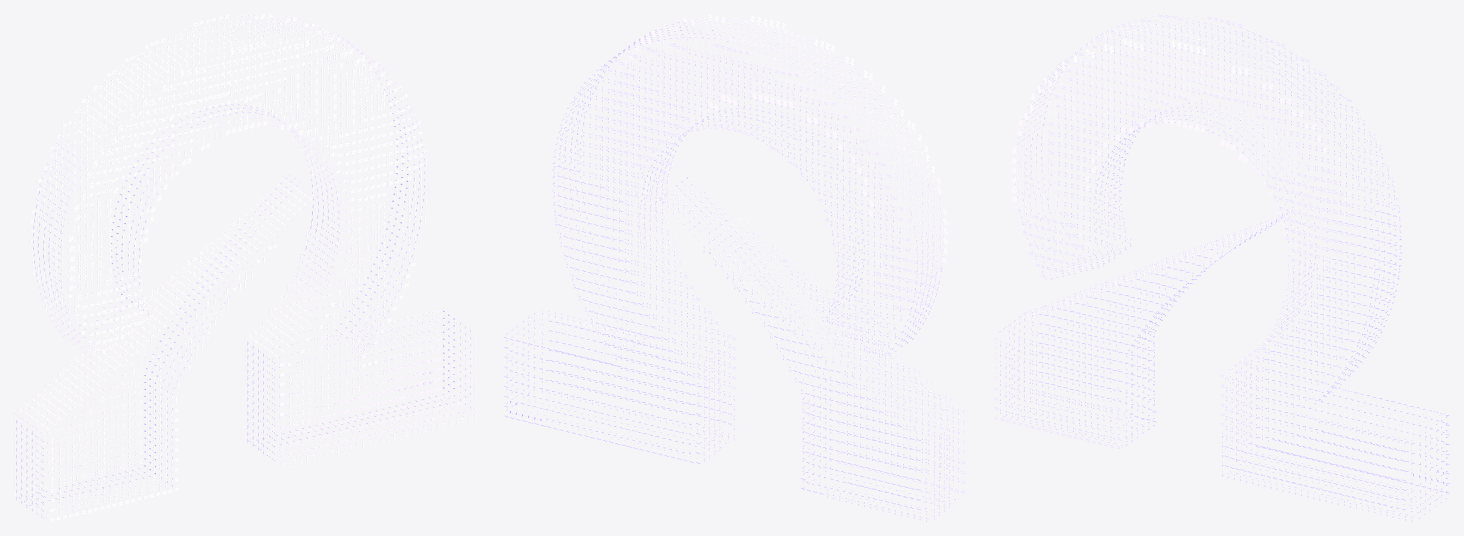
The model's file is loading-ascii.glb.
3 views of the same model, side by side, from view 1: azimuth 30°, elevation 25°; view 2: azimuth 150°, elevation 25°; view 3: azimuth 330°, elevation 25° (orthographic).
Visible parts, largest first — view 1: ASCII_5, ASCII_4, ASCII_3, ASCII_6, ASCII_2, ASCII_7, ASCII_8, ASCII_1, ASCII_9, ASCII_10; view 2: ASCII_5, ASCII_4, ASCII_3, ASCII_6, ASCII_2, ASCII_7, ASCII_8, ASCII_1, ASCII_9, ASCII_10; view 3: ASCII_5, ASCII_4, ASCII_3, ASCII_6, ASCII_2, ASCII_7, ASCII_8, ASCII_1, ASCII_9, ASCII_10.
Boxes of the visible parts, x1=… form: ASCII_5: x1=31, y1=17, x2=475, y2=494; ASCII_4: x1=14, y1=16, x2=475, y2=518; ASCII_3: x1=16, y1=14, x2=472, y2=512; ASCII_6: x1=30, y1=14, x2=423, y2=521; ASCII_2: x1=35, y1=19, x2=471, y2=518; ASCII_7: x1=52, y1=52, x2=426, y2=483; ASCII_8: x1=68, y1=45, x2=427, y2=352; ASCII_1: x1=19, y1=37, x2=454, y2=505; ASCII_9: x1=68, y1=43, x2=391, y2=291; ASCII_10: x1=82, y1=39, x2=309, y2=200; ASCII_5: x1=536, y1=20, x2=961, y2=463; ASCII_4: x1=511, y1=17, x2=961, y2=521; ASCII_3: x1=504, y1=22, x2=950, y2=519; ASCII_6: x1=598, y1=43, x2=965, y2=493; ASCII_2: x1=509, y1=39, x2=956, y2=507; ASCII_7: x1=591, y1=25, x2=963, y2=455; ASCII_8: x1=591, y1=18, x2=946, y2=324; ASCII_1: x1=506, y1=61, x2=938, y2=519; ASCII_9: x1=628, y1=18, x2=948, y2=264; ASCII_10: x1=708, y1=14, x2=934, y2=173; ASCII_5: x1=998, y1=18, x2=1417, y2=505; ASCII_4: x1=998, y1=14, x2=1442, y2=521; ASCII_3: x1=1009, y1=23, x2=1449, y2=506; ASCII_6: x1=994, y1=14, x2=1357, y2=449; ASCII_2: x1=1003, y1=60, x2=1444, y2=518; ASCII_7: x1=995, y1=91, x2=1363, y2=381; ASCII_8: x1=1013, y1=45, x2=1364, y2=277; ASCII_1: x1=1020, y1=99, x2=1447, y2=506; ASCII_9: x1=1011, y1=83, x2=1327, y2=202; ASCII_10: x1=1024, y1=38, x2=1248, y2=119.
Bounding box in the file's own units: 2 × 1.93 × 0.3417.
